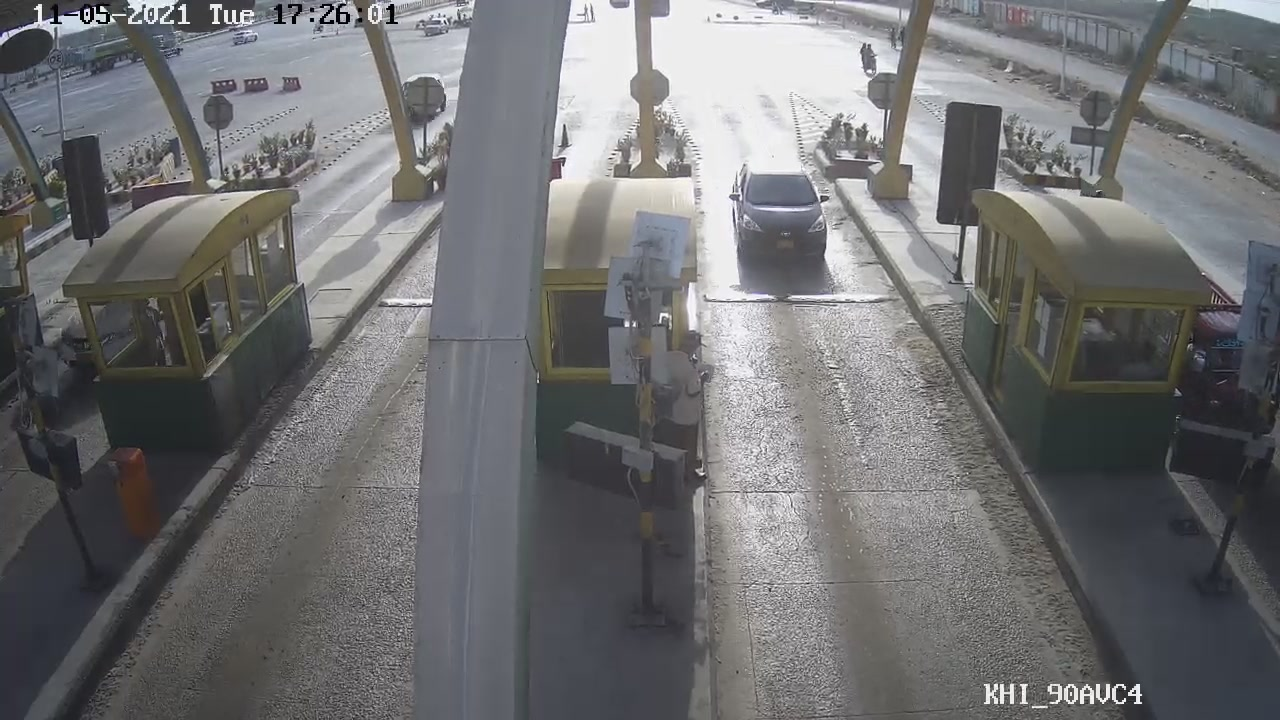F1: (719, 146, 844, 273)
